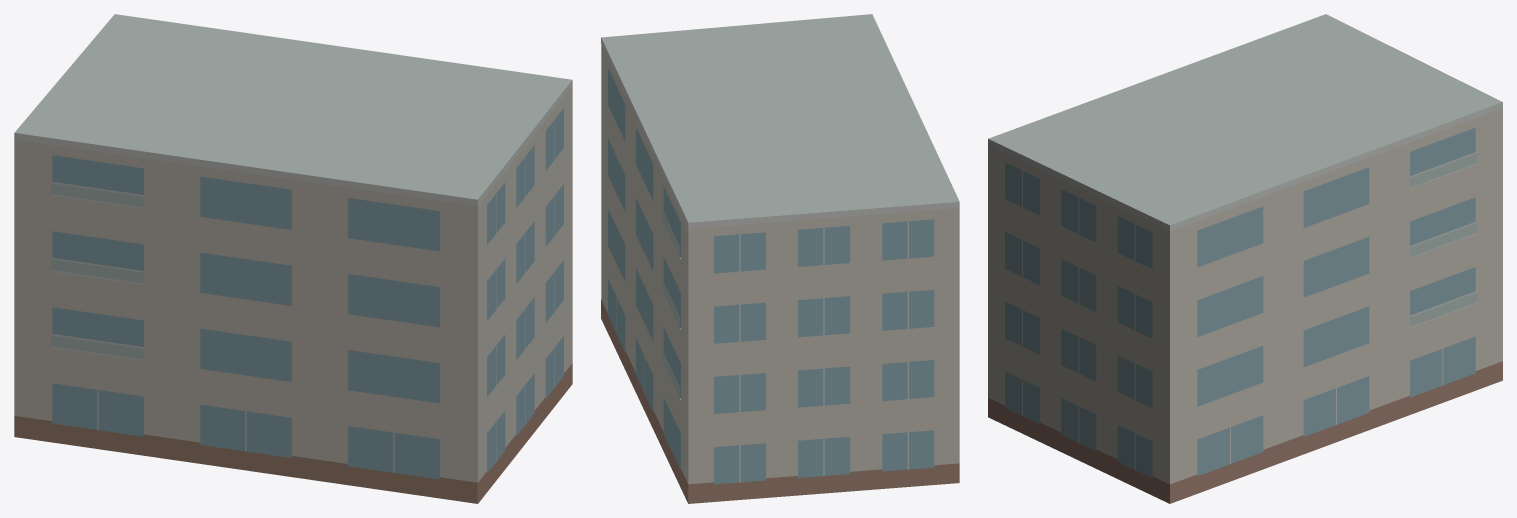
File: survey-upis-32959980.glb
The picture shows the model from 3 angles, left to right: view 1: azimuth 30°, elevation 25°; view 2: azimuth 150°, elevation 25°; view 3: azimuth 270°, elevation 25°; orthographic projection. The views are drawn at different scales.
Parts seen in each view (by area): view 1: survey-upis-32959980.tmp; view 2: survey-upis-32959980.tmp; view 3: survey-upis-32959980.tmp.
Boxes of the visible parts, x1,y1,x2,y2 form: survey-upis-32959980.tmp: (14, 14, 572, 503); survey-upis-32959980.tmp: (601, 14, 959, 503); survey-upis-32959980.tmp: (988, 14, 1502, 503).
Bounding box in the file's own units: 18.4 × 11.3 × 18.94.
